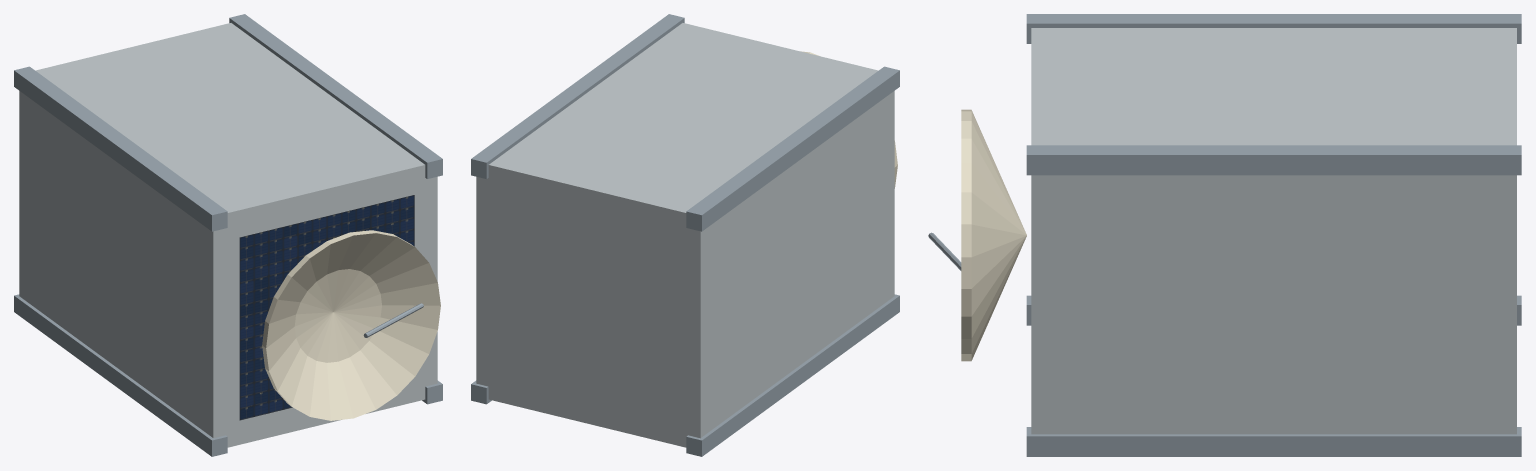
File: ref-cubesat-6u-44391.glb
3 renders of one model, left to right at view 1: azimuth 30°, elevation 25°; view 2: azimuth 150°, elevation 25°; view 3: azimuth 270°, elevation 25°, orthographic. The views are drawn at different scales.
Parts seen in each view (by area): view 1: Spacecraft body, Reflector dish, Dispenser rail (×3), Body-mounted cells; view 2: Spacecraft body, Dispenser rail (×3); view 3: Spacecraft body, Dispenser rail (×3), Reflector dish.
Boxes of the visible parts, x1,y1,x2,y2 form: Spacecraft body: [19, 23, 437, 447]; Reflector dish: [262, 230, 440, 420]; Dispenser rail (×3): [14, 14, 442, 456]; Body-mounted cells: [239, 195, 414, 420]; Spacecraft body: [476, 23, 894, 447]; Dispenser rail (×3): [471, 14, 899, 456]; Spacecraft body: [1031, 28, 1516, 434]; Dispenser rail (×3): [1026, 14, 1521, 456]; Reflector dish: [961, 109, 1026, 361].
Size of the model in its own units: 0.206 by 0.206 by 0.3667.
4 materials, 1 textured.
